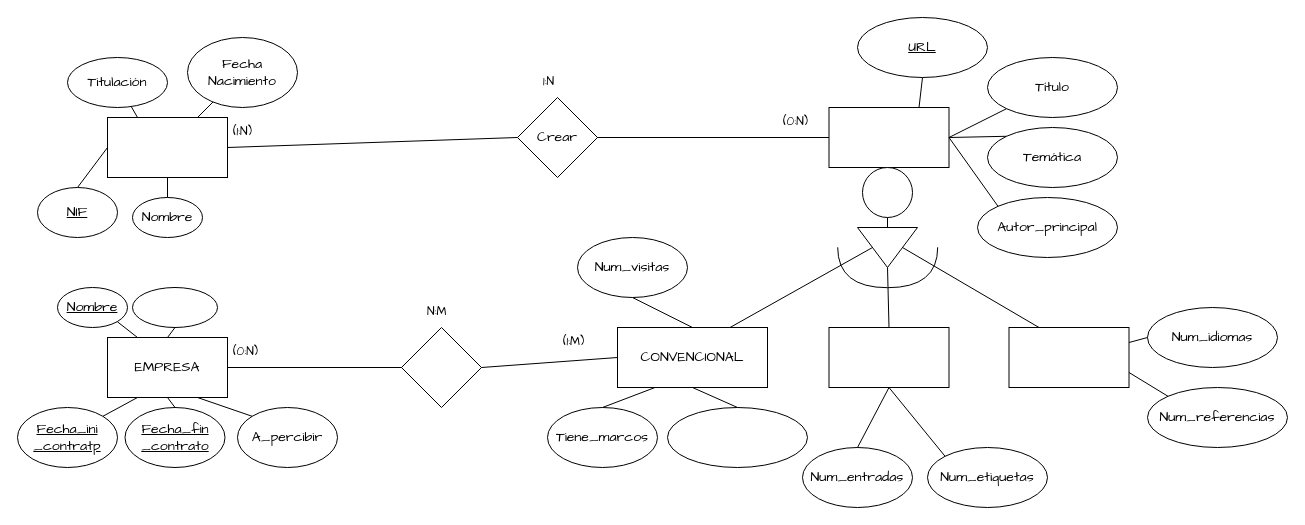
This 1305x525 diagram has some shape labels left out. Each missing label, with the box of its shape:
Actividad: (132, 286, 218, 328)
BLOG: (828, 326, 949, 388)
PAGINA_WEB: (828, 106, 949, 168)
Publicar: (400, 326, 482, 408)
Tiene_publicidad: (666, 406, 808, 468)
USUARIO: (106, 116, 228, 178)
WIKI: (1008, 326, 1129, 388)
